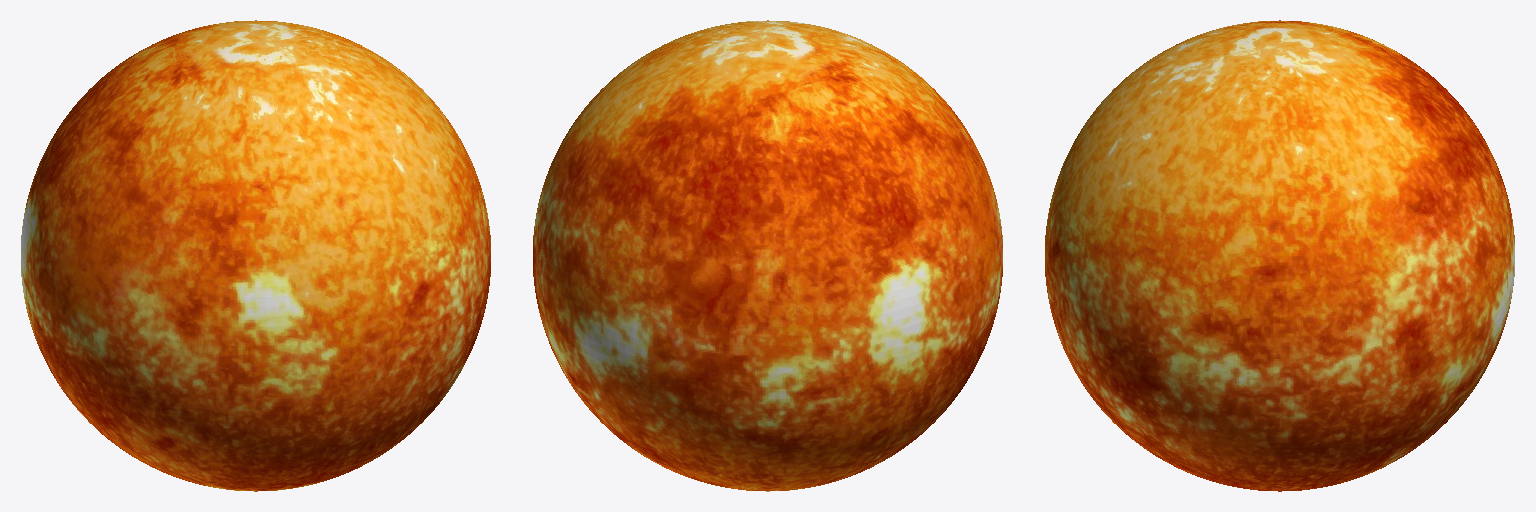
3 views of the same model, side by side, from view 1: azimuth 30°, elevation 25°; view 2: azimuth 150°, elevation 25°; view 3: azimuth 270°, elevation 25° (orthographic).
Parts seen in each view (by area): view 1: cylindrically_mapped_sphere.001; view 2: cylindrically_mapped_sphere.001; view 3: cylindrically_mapped_sphere.001.
Part boxes in pixels (left/top/right/bottom): cylindrically_mapped_sphere.001: left=21, top=20, right=490, bottom=491; cylindrically_mapped_sphere.001: left=533, top=20, right=1002, bottom=491; cylindrically_mapped_sphere.001: left=1045, top=20, right=1514, bottom=491.
Size of the model in its own units: 1000 by 1000 by 1000.
Materials: 1 (1 with a texture image).